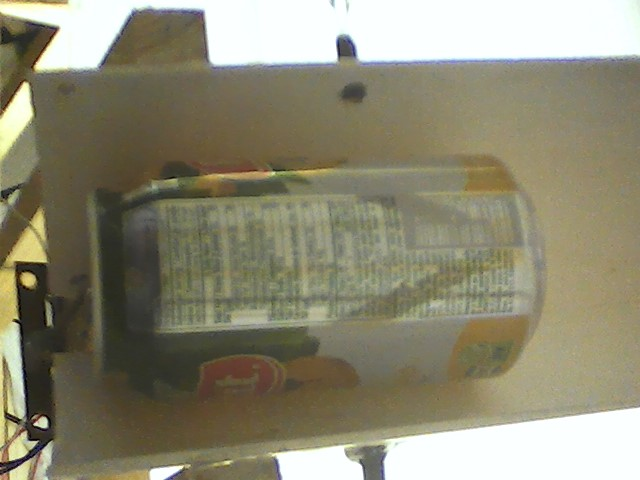lata: (80, 149, 553, 413)
